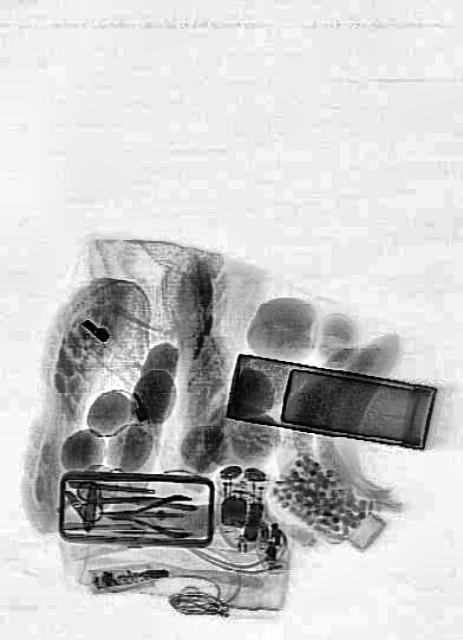Pliers: (102, 492, 190, 538)
Scissors: (76, 479, 150, 518)
